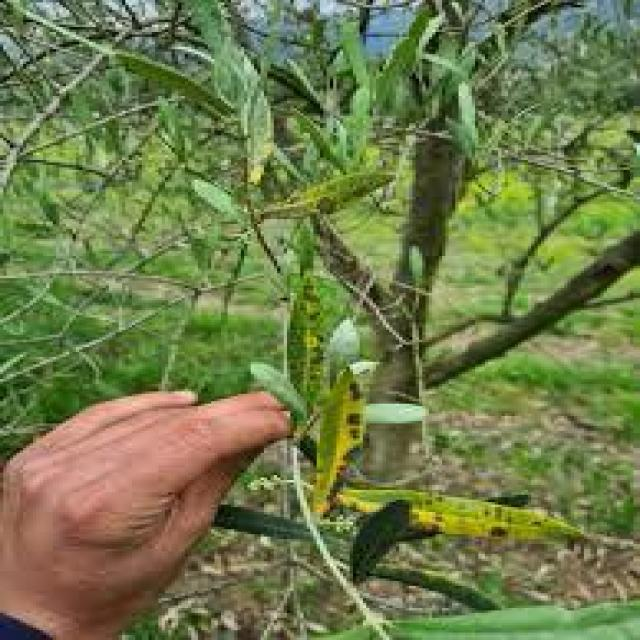Peacock Eye: (340, 490, 581, 537), (257, 172, 393, 219), (317, 367, 360, 512), (287, 268, 320, 411)
